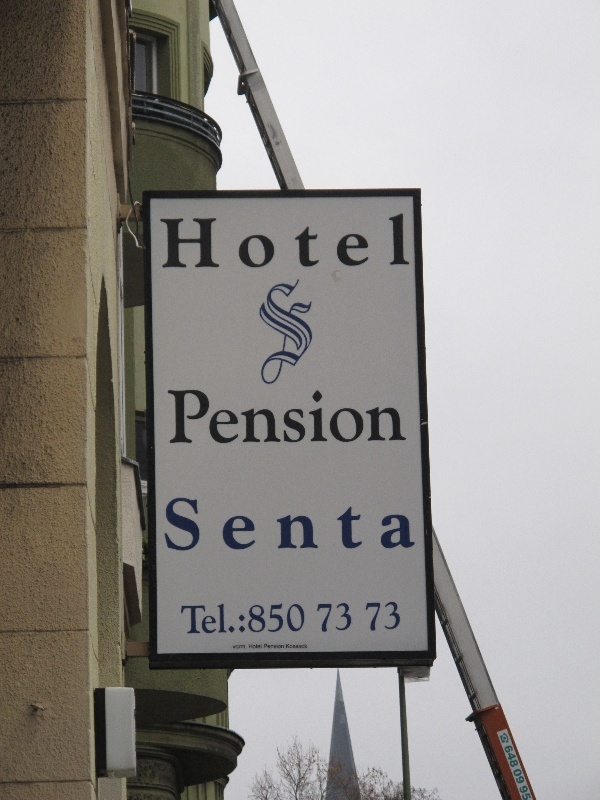text: (257, 278, 272, 384), (273, 278, 288, 384), (289, 278, 304, 384), (305, 278, 320, 384), (161, 213, 176, 271), (177, 213, 192, 271), (193, 213, 208, 271), (209, 213, 224, 271), (225, 213, 240, 271), (241, 213, 256, 271), (257, 213, 272, 271), (273, 213, 288, 271), (289, 213, 304, 271), (305, 213, 320, 271), (321, 213, 336, 271), (337, 213, 352, 271), (353, 213, 368, 271), (369, 213, 384, 271), (385, 213, 400, 271), (177, 389, 192, 445), (193, 389, 208, 445), (209, 389, 224, 445), (225, 389, 240, 445), (241, 389, 256, 445), (257, 389, 272, 445), (273, 389, 288, 445), (289, 389, 304, 445), (305, 389, 320, 445), (321, 389, 336, 445), (337, 389, 352, 445), (353, 389, 368, 445), (369, 389, 384, 445), (385, 389, 400, 445), (513, 744, 528, 800), (177, 499, 192, 553), (193, 499, 208, 553), (209, 499, 224, 553), (225, 499, 240, 553), (241, 499, 256, 553), (257, 499, 272, 553), (273, 499, 288, 553), (289, 499, 304, 553), (305, 499, 320, 553), (321, 499, 336, 553), (337, 499, 352, 553), (353, 499, 368, 553), (369, 499, 384, 553), (385, 499, 400, 553), (401, 499, 416, 553), (165, 499, 176, 553), (385, 600, 401, 637), (321, 598, 336, 637), (337, 598, 352, 637), (401, 213, 411, 271), (193, 603, 208, 641), (209, 603, 224, 641), (225, 603, 240, 641), (241, 603, 256, 641), (257, 603, 272, 641), (273, 603, 288, 641), (289, 603, 304, 641), (369, 600, 384, 637), (179, 603, 192, 641), (169, 389, 176, 445), (401, 389, 408, 445), (529, 744, 532, 800), (317, 598, 320, 637), (365, 600, 368, 637), (321, 278, 322, 384), (159, 213, 160, 271), (511, 744, 512, 800), (417, 499, 418, 553), (353, 598, 354, 637), (305, 603, 306, 641)
